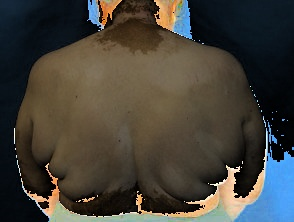vitiligo: (9, 0, 278, 221)
